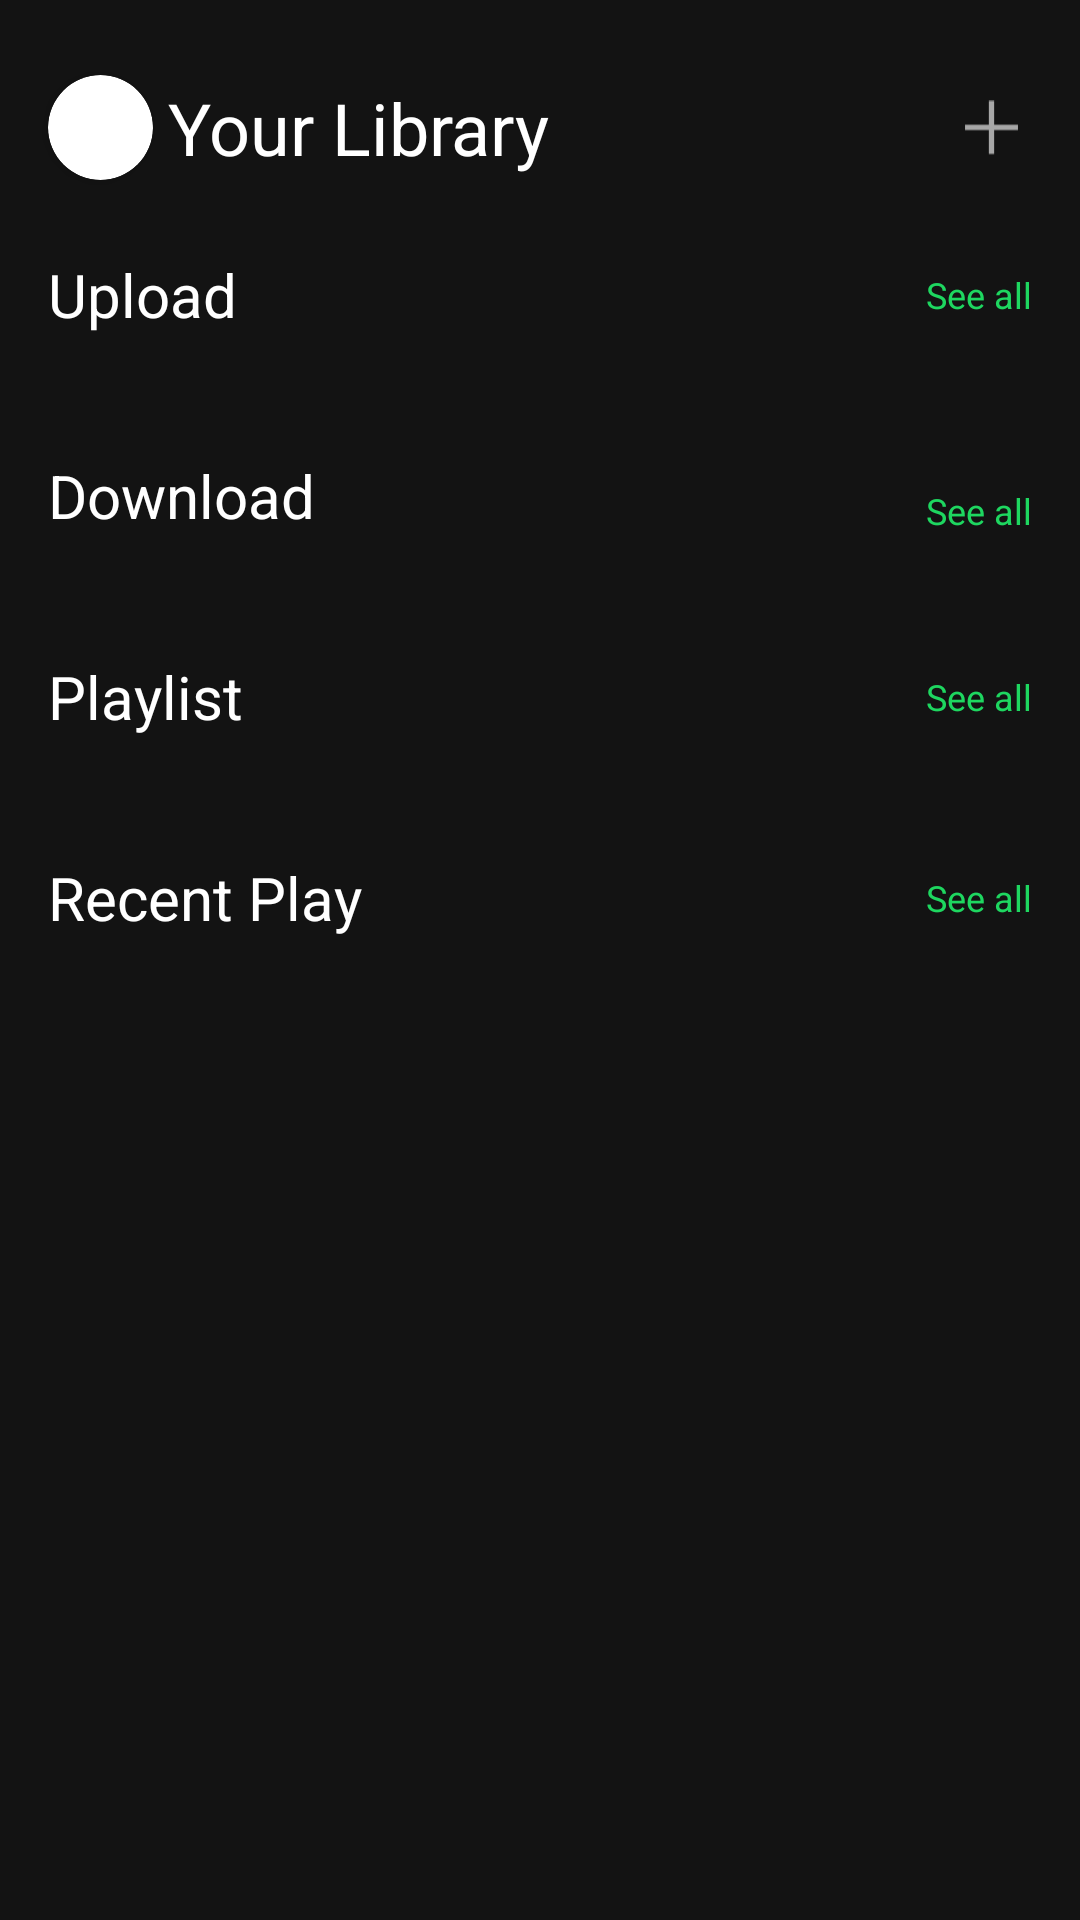

Icons on this 1080px x 1920px Android screen, each with the point to tap as [x,y]:
add: [991,127]
